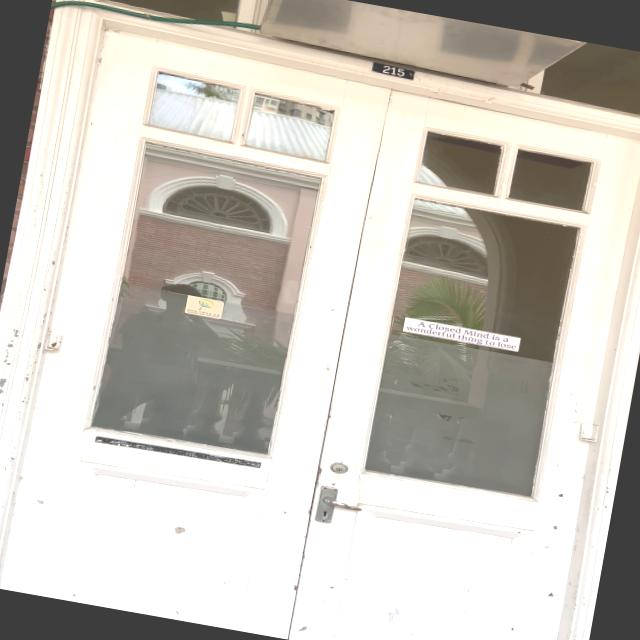room215: (368, 58, 418, 81)
